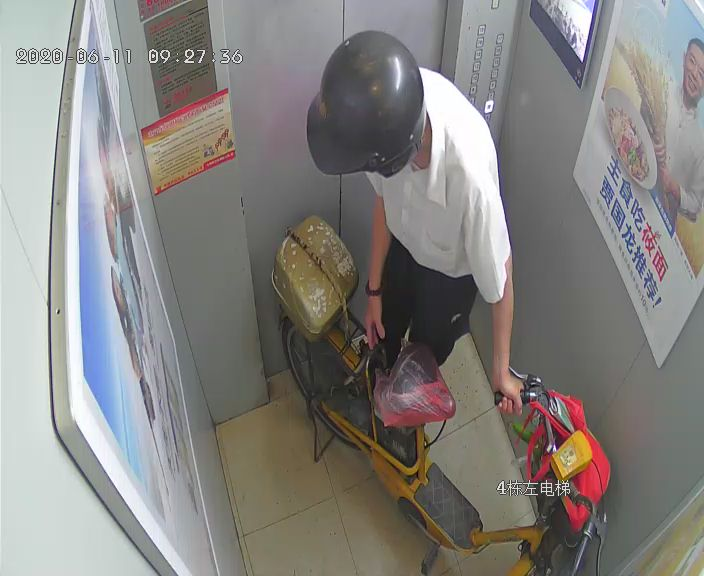Electric-bicycle: (272, 215, 613, 574)
